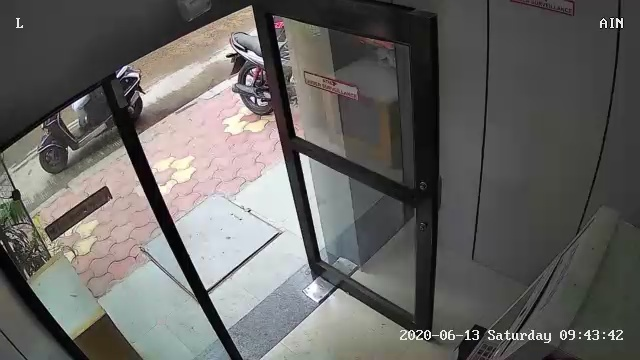open: (105, 4, 446, 352)
